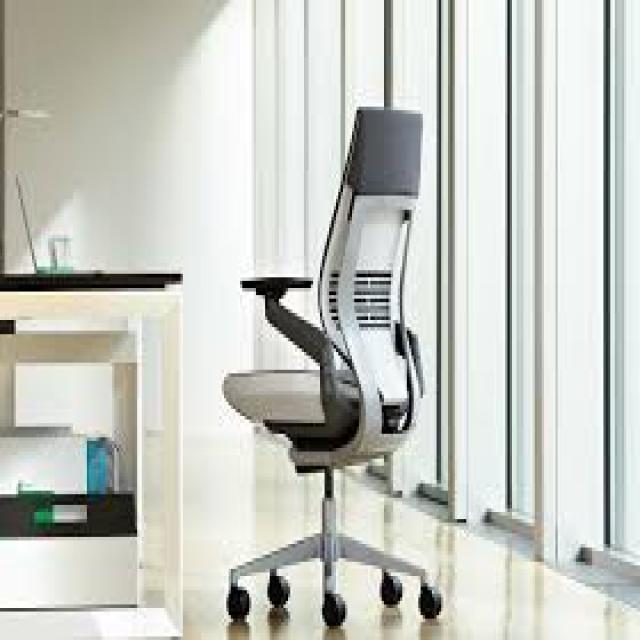chair: (182, 73, 483, 640)
